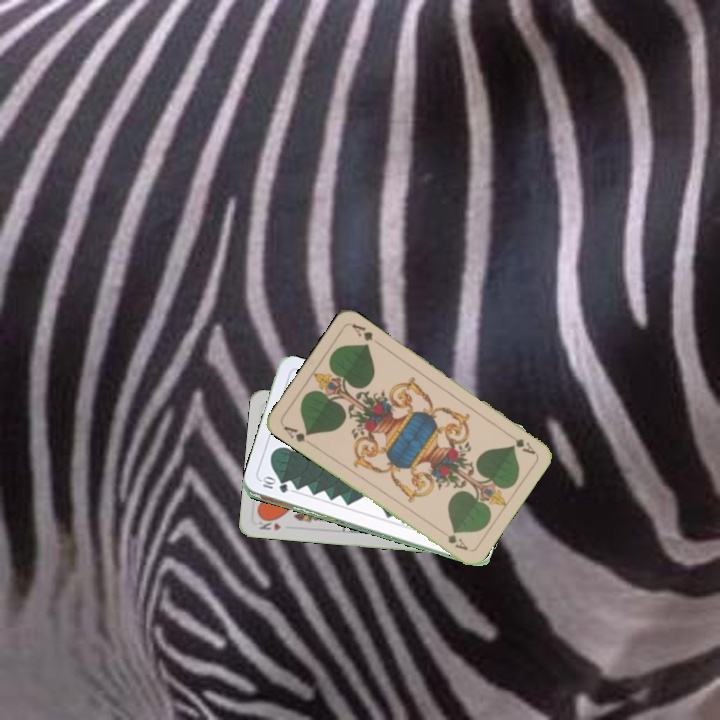G10: (257, 476, 291, 495)
GA: (502, 429, 538, 457), (279, 422, 315, 448)
HK: (255, 514, 283, 533)
